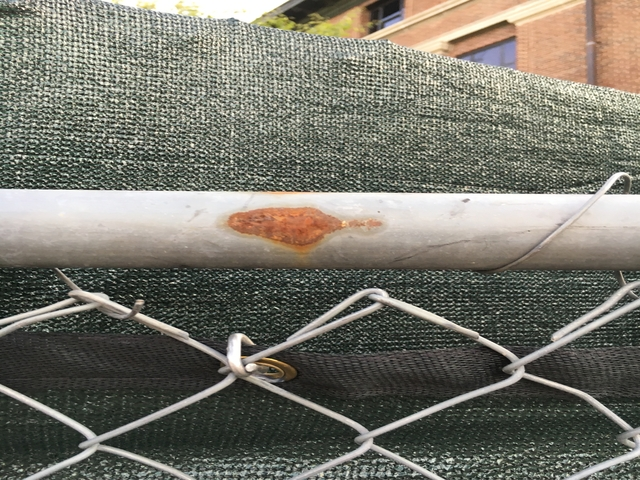Moderate: (214, 192, 386, 258)
